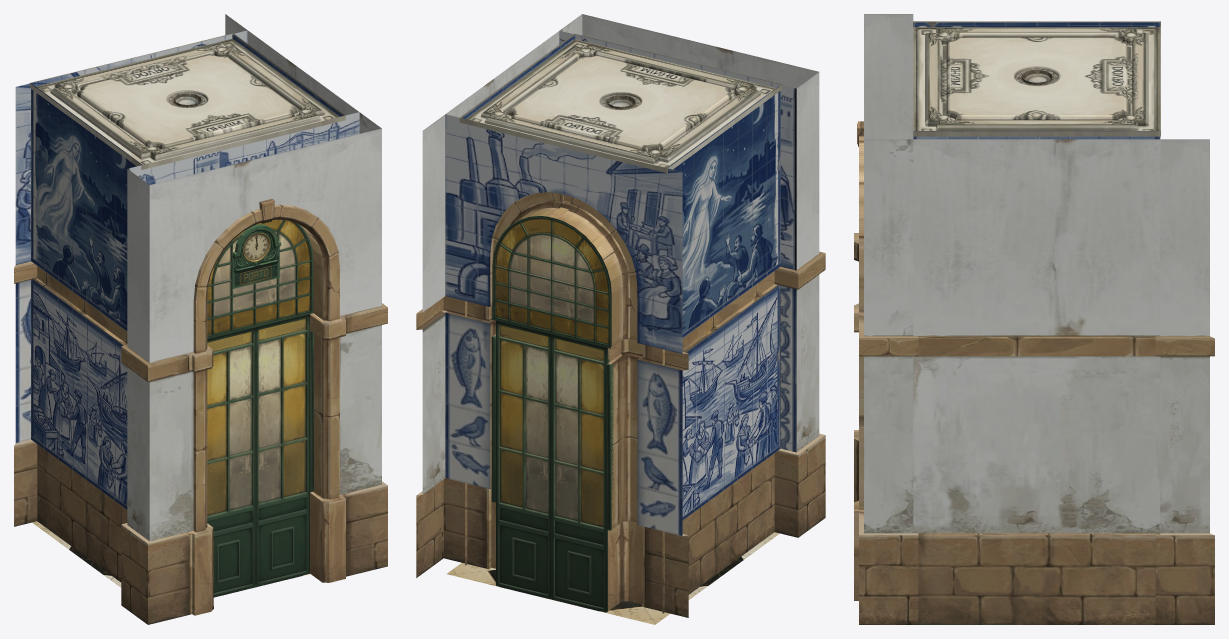
The model's file is SC01_hall.fbx.
3 views of the same model, side by side, from view 1: azimuth 30°, elevation 25°; view 2: azimuth 150°, elevation 25°; view 3: azimuth 270°, elevation 25° (orthographic). The views are drawn at different scales.
Parts seen in each view (by area): view 1: SM_arc_front, SM_wall_right, SM_roof, SM_arc_back, SM_doorglass_FL, SM_doorglass_FR, SM_door_FL, SM_windowglass_front, SM_door_FR, SM_clock_exterior, SM_window_front, SM_wall_left (+1 smaller); view 2: SM_arc_back, SM_wall_right, SM_arc_front, SM_roof, SM_windowglass_black, SM_doorglass_BL, SM_doorglass_BR, SM_door_BR, SM_door_BL, SM_window_back, SM_wall_left, SM_floor; view 3: SM_wall_left, SM_arc_front, SM_roof, SM_arc_back, SM_wall_right.
Boxes of the visible parts, x1,y1,x2,y2 form: SM_arc_front: [121, 112, 387, 624]; SM_wall_right: [31, 83, 142, 582]; SM_roof: [29, 33, 345, 169]; SM_arc_back: [14, 14, 247, 526]; SM_doorglass_FL: [258, 318, 305, 503]; SM_doorglass_FR: [207, 331, 251, 515]; SM_door_FL: [256, 314, 309, 586]; SM_windowglass_front: [207, 219, 310, 335]; SM_door_FR: [207, 327, 255, 596]; SM_clock_exterior: [232, 224, 281, 288]; SM_window_front: [207, 220, 313, 338]; SM_wall_left: [232, 30, 358, 116]; SM_arc_back: [416, 114, 688, 617]; SM_wall_right: [662, 85, 780, 613]; SM_arc_front: [559, 14, 825, 537]; SM_roof: [459, 33, 782, 173]; SM_windowglass_black: [495, 218, 608, 344]; SM_doorglass_BL: [500, 325, 548, 513]; SM_doorglass_BR: [555, 338, 603, 527]; SM_door_BR: [551, 334, 609, 612]; SM_door_BL: [496, 320, 551, 598]; SM_window_back: [492, 216, 611, 348]; SM_wall_left: [441, 31, 575, 565]; SM_floor: [447, 532, 779, 624]; SM_wall_left: [913, 131, 1160, 624]; SM_arc_front: [854, 14, 918, 624]; SM_roof: [913, 21, 1160, 136]; SM_arc_back: [1155, 139, 1214, 624]; SM_wall_right: [913, 22, 1160, 27].
Size of the model in its own units: 3.1 by 5.4 by 3.65.
